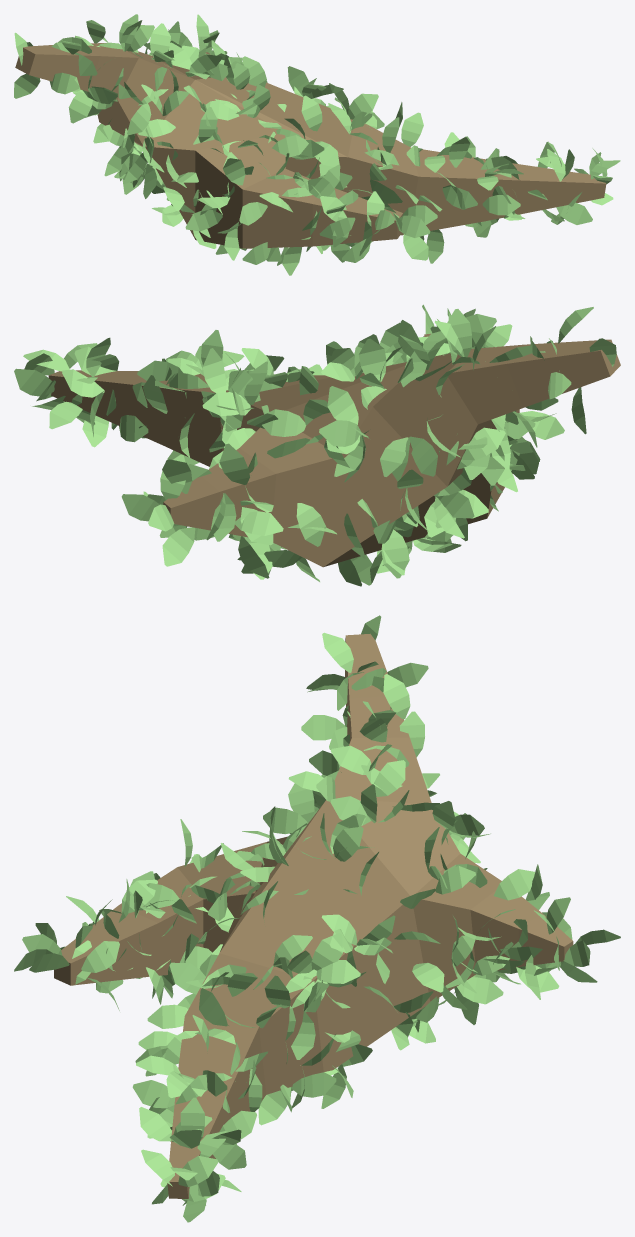
Rendered from bridge04.fbx.
3 views of the same model, one above another, from view 1: azimuth 30°, elevation 25°; view 2: azimuth 150°, elevation 25°; view 3: azimuth 270°, elevation 25° (orthographic). The views are drawn at different scales.
Parts seen in each view (by area): view 1: Tree7, Tree7|leaf|Dupli|188, Tree7|leaf|Dupli|96, Tree7|leaf|Dupli|201, Tree7|leaf|Dupli|150, Tree7|leaf|Dupli|10, Tree7|leaf|Dupli|97, Tree7|leaf|Dupli|71, Tree7|leaf|Dupli|392, Tree7|leaf|Dupli|416, Tree7|leaf|Dupli|176, Tree7|leaf|Dupli|113 (+26 smaller); view 2: Tree7, Tree7|leaf|Dupli|104, Tree7|leaf|Dupli|305, Tree7|leaf|Dupli|283, Tree7|leaf|Dupli|437, Tree7|leaf|Dupli|365, Tree7|leaf|Dupli|36, Tree7|leaf|Dupli|46, Tree7|leaf|Dupli|122, Tree7|leaf|Dupli|206, Tree7|leaf|Dupli|29, Tree7|leaf|Dupli|484 (+47 smaller); view 3: Tree7, Tree7|leaf|Dupli|499, Tree7|leaf|Dupli|388, Tree7|leaf|Dupli|51, Tree7|leaf|Dupli|353, Tree7|leaf|Dupli|302.
Boxes of the visible parts, box(x1,y1,x2,y2) form: Tree7: box(15, 43, 606, 248); Tree7|leaf|Dupli|188: box(482, 194, 520, 215); Tree7|leaf|Dupli|96: box(401, 112, 423, 146); Tree7|leaf|Dupli|201: box(185, 210, 222, 231); Tree7|leaf|Dupli|150: box(556, 202, 592, 224); Tree7|leaf|Dupli|10: box(272, 135, 308, 157); Tree7|leaf|Dupli|97: box(68, 90, 92, 123); Tree7|leaf|Dupli|71: box(301, 95, 322, 131); Tree7|leaf|Dupli|392: box(396, 215, 430, 237); Tree7|leaf|Dupli|416: box(348, 93, 378, 119); Tree7|leaf|Dupli|176: box(403, 234, 428, 260); Tree7|leaf|Dupli|113: box(150, 23, 170, 62); Tree7: box(48, 333, 620, 567); Tree7|leaf|Dupli|104: box(162, 527, 195, 566); Tree7|leaf|Dupli|305: box(296, 503, 325, 546); Tree7|leaf|Dupli|283: box(262, 409, 306, 436); Tree7|leaf|Dupli|437: box(358, 338, 386, 381); Tree7|leaf|Dupli|365: box(235, 511, 283, 535); Tree7|leaf|Dupli|36: box(319, 420, 361, 446); Tree7|leaf|Dupli|46: box(327, 386, 358, 424); Tree7|leaf|Dupli|122: box(381, 529, 409, 578); Tree7|leaf|Dupli|206: box(219, 443, 249, 484); Tree7|leaf|Dupli|29: box(14, 368, 54, 396); Tree7|leaf|Dupli|484: box(409, 436, 437, 476); Tree7: box(54, 633, 573, 1198); Tree7|leaf|Dupli|499: box(493, 869, 534, 900); Tree7|leaf|Dupli|388: box(374, 760, 405, 796); Tree7|leaf|Dupli|51: box(132, 1080, 175, 1108); Tree7|leaf|Dupli|353: box(81, 941, 119, 972); Tree7|leaf|Dupli|302: box(383, 674, 410, 719).
Size of the model in its own units: 854 by 395 by 682.
